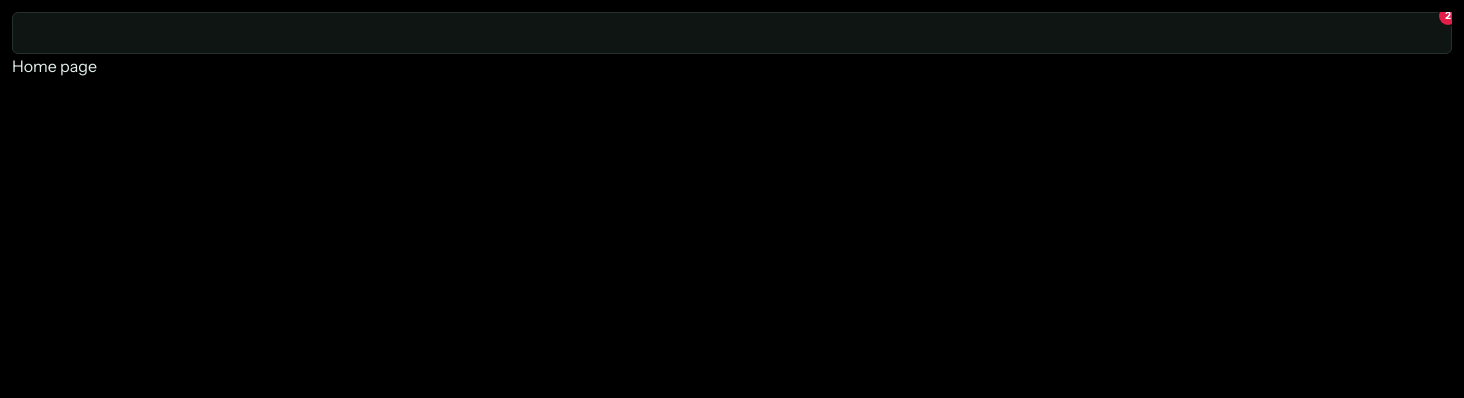
Test case: Back and the bell preview › hovering the bell previews the newest notes; clicking it opens the full page
Hover over the element showing "2": (732, 33) top-left (12, 12), bottom-right (1452, 54)
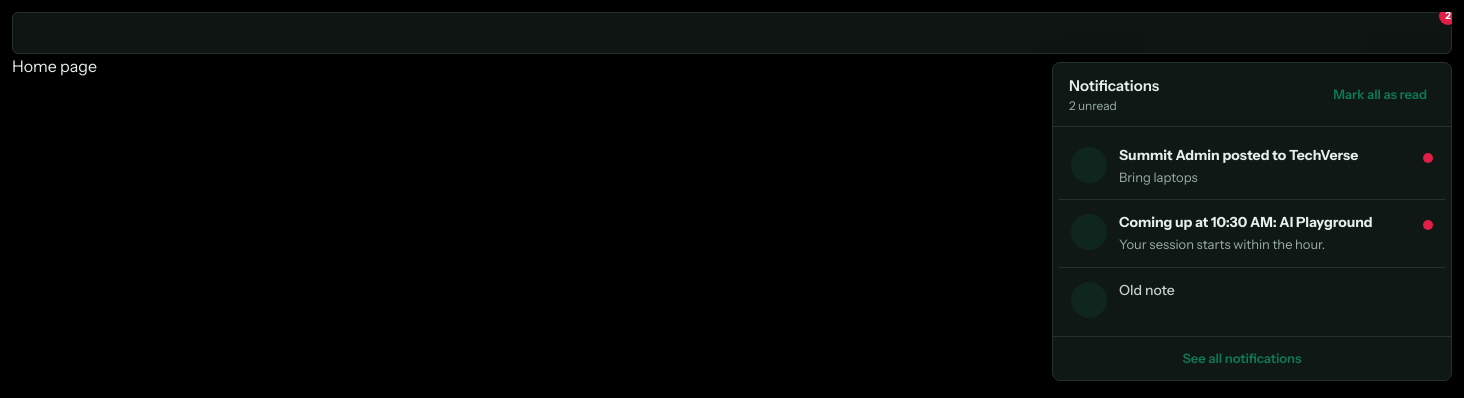
Result: the element named "Latest notifications" shows "Summit Admin posted to TechVerse" at top-left (1059, 132), bottom-right (1445, 199)
Result: the element named "Latest notifications" shows "See all notifications" at top-left (1053, 336), bottom-right (1451, 380)
Click the link named "Notifications, 2 unread": (732, 33) top-left (12, 12), bottom-right (1452, 54)
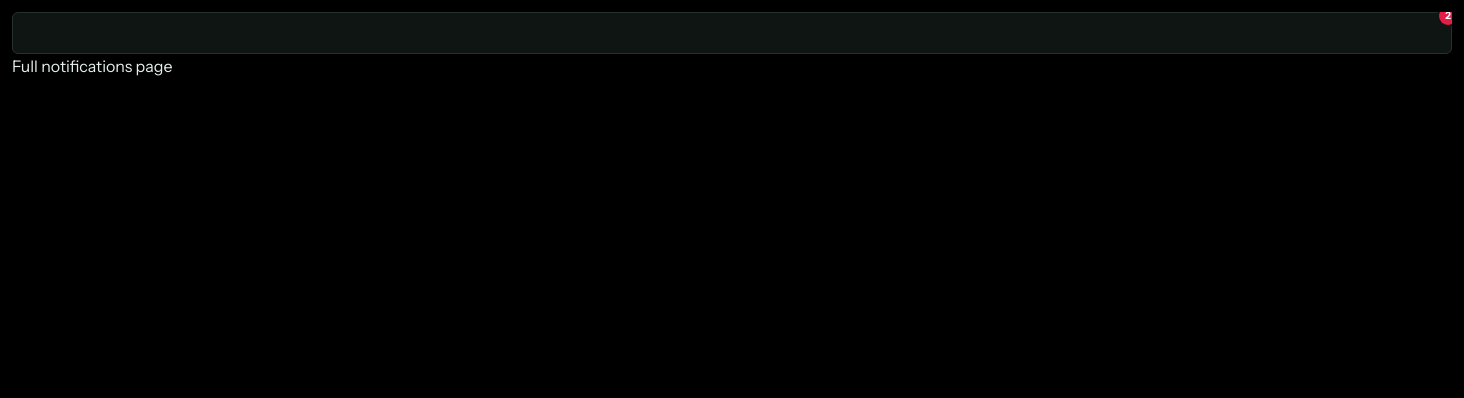
Result: the text "Full notifications page" is shown at top-left (12, 56), bottom-right (173, 76)
